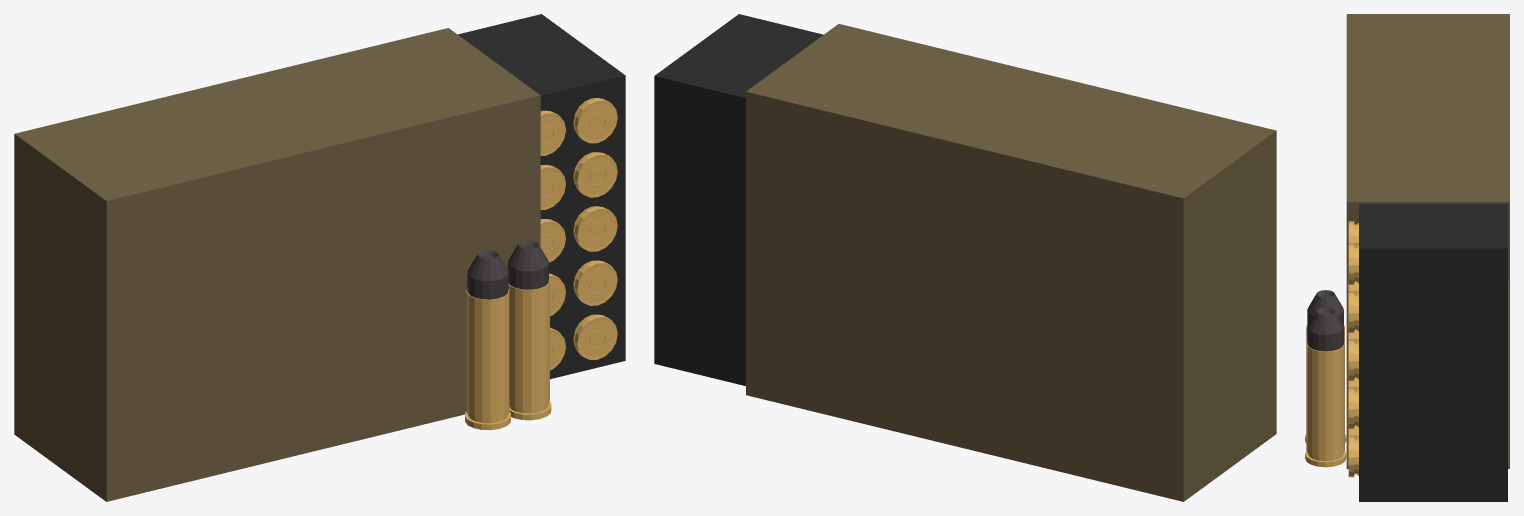
The model's file is 38-ammo.glb.
3 renders of one model, left to right at view 1: azimuth 30°, elevation 25°; view 2: azimuth 150°, elevation 25°; view 3: azimuth 270°, elevation 25°, orthographic. The views are drawn at different scales.
Parts seen in each view (by area): view 1: Cube, Cube.001, casing.011, casing, projectile.001, projectile, casing.001, casing.002, casing.004, casing.003, casing.006, casing.010 (+2 smaller); view 2: Cube, Cube.001; view 3: Cube.001, Cube, casing, projectile, projectile.001, casing.001, casing.002, casing.003, casing.006, casing.004, casing.010.
Boxes of the visible parts, <box> form: Cube: <box>14,28,540,501</box>; Cube.001: <box>458,14,625,379</box>; casing.011: <box>465,288,510,430</box>; casing: <box>508,279,551,420</box>; projectile.001: <box>467,250,508,299</box>; projectile: <box>507,240,548,289</box>; casing.001: <box>573,98,617,143</box>; casing.002: <box>573,206,617,251</box>; casing.004: <box>573,152,617,197</box>; casing.003: <box>573,260,617,305</box>; casing.006: <box>573,314,617,359</box>; casing.010: <box>540,110,565,155</box>; Cube: <box>746,24,1276,501</box>; Cube.001: <box>654,14,823,385</box>; Cube.001: <box>1359,204,1507,501</box>; Cube: <box>1346,14,1509,468</box>; casing: <box>1305,342,1346,467</box>; projectile: <box>1307,307,1343,351</box>; projectile.001: <box>1307,290,1343,326</box>; casing.001: <box>1348,243,1358,284</box>; casing.002: <box>1348,340,1358,381</box>; casing.003: <box>1348,388,1358,429</box>; casing.006: <box>1348,436,1358,477</box>; casing.004: <box>1348,292,1358,332</box>; casing.010: <box>1348,221,1358,246</box>.
Size of the model in its own units: 0.5022 by 0.2745 by 0.191.
